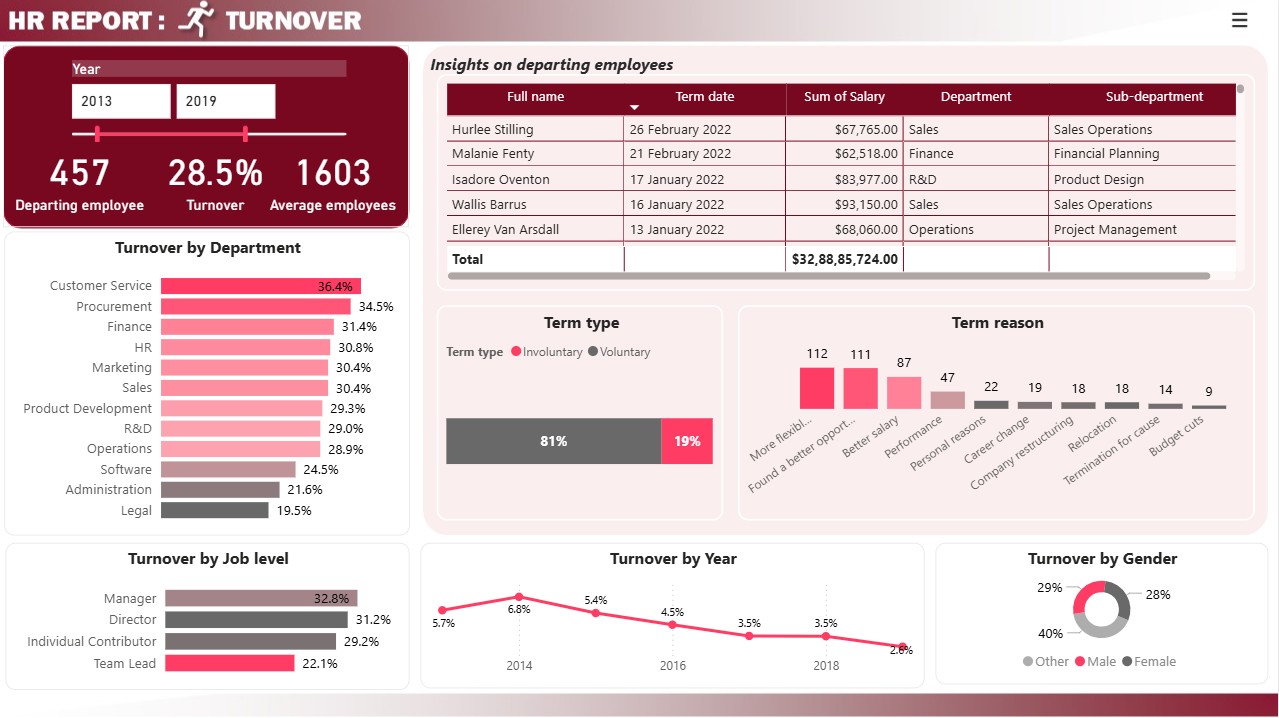

This screenshot's page, from the dashboard's own definition file:
{"tool":"powerbi","page":{"name":"Turnover","canvas":[1280,720],"ordinal":3},"visuals":[{"type":"shape","box":[425,46.2,845,490],"z":0},{"type":"shape","box":[4.8,45.8,406.6,183.4],"z":1000},{"type":"card","fields":{"Values":["_measure.Turnover"]},"box":[141.2,137.5,152.5,82.5],"z":2000},{"type":"slicer","fields":{"Values":["_Dates (Big).Year"]},"box":[61.7,56.7,300,101.7],"z":3000},{"type":"card","fields":{"Values":["_measure.Departing employee"]},"box":[10.9,137.5,141.2,82],"z":4000},{"type":"card","fields":{"Values":["_measure.Average employees"]},"box":[265.4,137.5,139.9,82],"z":5000},{"type":"clusteredBarChart","fields":{"Category":["Job level_table.Job level"],"Y":["_measure.Turnover"]},"box":[7.1,544.3,404.3,147.1],"z":6000},{"type":"barChart","fields":{"Category":["Department_table.Department"],"Y":["_measure.Turnover"]},"box":[5.7,232.9,405.7,304.3],"z":7000},{"type":"lineChart","fields":{"Category":["_Dates (Big).Year"],"Y":["_measure.Turnover"]},"box":[422.9,544.3,504.3,145.7],"z":8000},{"type":"tableEx","fields":{"Values":["Main_table.Full name","Main_table.Term date","Main_table.Salary","Department_table.Department","Department_table.Sub-department"]},"box":[438.3,75,818.3,216.7],"z":9000},{"type":"hundredPercentStackedBarChart","title":"Term type","fields":{"Y":["_measure.Departing employee"],"Series":["Term_table.Term type"]},"box":[438.3,306.7,286.7,215],"z":10000},{"type":"columnChart","title":"Term reason ","fields":{"Category":["Term_table.Term reason"],"Y":["_measure.Departing employee"]},"box":[740,306.7,516.7,215],"z":11000},{"type":"donutChart","title":"Turnover by Gender","fields":{"Category":["Demographic_table.Gender"],"Y":["_measure.Turnover"]},"box":[937.1,544.3,332.9,141.4],"z":12000},{"type":"actionButton","box":[1204,0,76,39.8],"z":13000}]}

Visuals, with their boxes in screenshot pixels (x1, y1, x2, y2), scaled from the page's 1280x720 canvas onto the 1279x718 screenshot:
shape: rect(425, 46, 1269, 535)
shape: rect(5, 46, 411, 229)
card - _measure.Turnover: rect(141, 137, 293, 219)
slicer - _Dates (Big).Year: rect(62, 57, 361, 158)
card - _measure.Departing employee: rect(11, 137, 152, 219)
card - _measure.Average employees: rect(265, 137, 405, 219)
clusteredBarChart - Job level_table.Job level x _measure.Turnover: rect(7, 543, 411, 689)
barChart - Department_table.Department x _measure.Turnover: rect(6, 232, 411, 536)
lineChart - _Dates (Big).Year x _measure.Turnover: rect(423, 543, 926, 688)
tableEx - Main_table.Full name x Main_table.Term date: rect(438, 75, 1256, 291)
"Term type" hundredPercentStackedBarChart: rect(438, 306, 724, 520)
"Term reason " columnChart: rect(739, 306, 1256, 520)
"Turnover by Gender" donutChart: rect(936, 543, 1269, 684)
actionButton: rect(1203, 0, 1278, 40)
